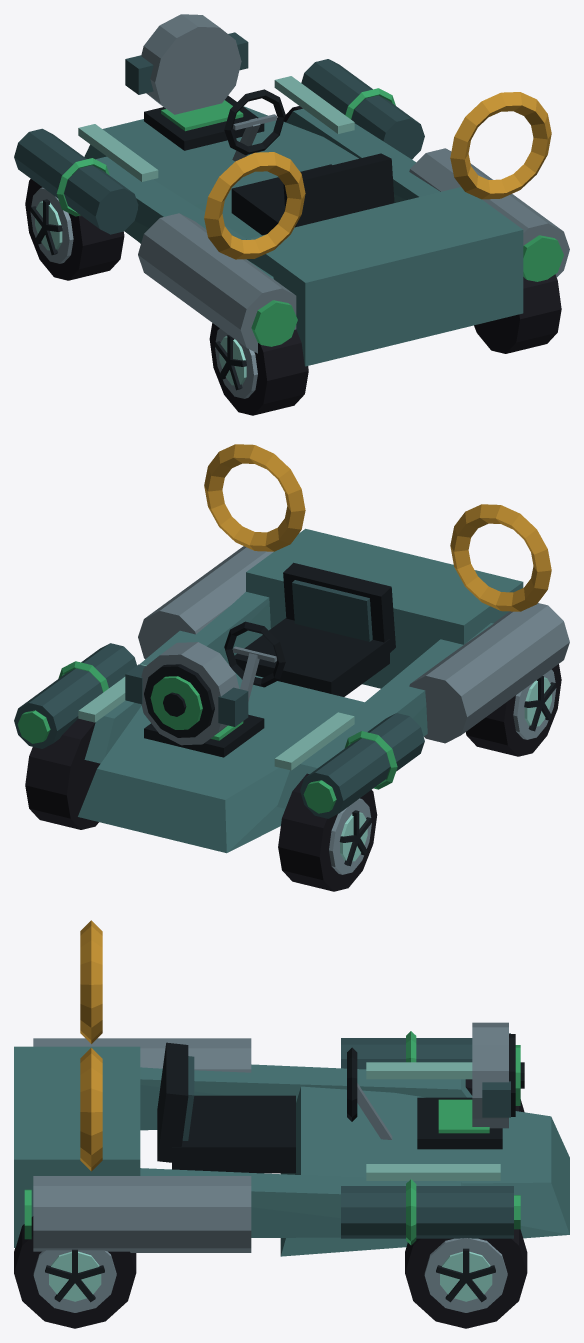
The model's file is kart.glb.
3 views of the same model, one above another, from view 1: azimuth 30°, elevation 25°; view 2: azimuth 150°, elevation 25°; view 3: azimuth 270°, elevation 25° (orthographic). The views are drawn at different scales.
Visible parts, largest first — view 1: identity-lab-pod-lab-pod-segmented-shell, identity-lab-pod-motif-plasma, identity-lab-pod-motif-ring, identity-lab-pod-driver-cockpit, identity-lab-pod-motif-optic, wheel-rear-left, wheel-front-left, wheel-rear-right; view 2: identity-lab-pod-lab-pod-segmented-shell, identity-lab-pod-driver-cockpit, identity-lab-pod-motif-plasma, identity-lab-pod-motif-ring, identity-lab-pod-motif-optic, wheel-front-left, wheel-front-right, wheel-rear-left; view 3: identity-lab-pod-lab-pod-segmented-shell, identity-lab-pod-driver-cockpit, identity-lab-pod-motif-plasma, wheel-front-right, wheel-rear-right, identity-lab-pod-motif-ring, identity-lab-pod-motif-optic.
Part boxes in pixels (left/top/right/bottom): identity-lab-pod-lab-pod-segmented-shell: left=78, top=76, right=569, bottom=366; identity-lab-pod-motif-plasma: left=14, top=59, right=424, bottom=234; identity-lab-pod-motif-ring: left=204, top=92, right=551, bottom=259; identity-lab-pod-driver-cockpit: left=224, top=89, right=394, bottom=235; identity-lab-pod-motif-optic: left=125, top=14, right=248, bottom=114; wheel-rear-left: left=209, top=323, right=308, bottom=415; wheel-front-left: left=25, top=179, right=124, bottom=280; wheel-rear-right: left=474, top=274, right=561, bottom=353; identity-lab-pod-lab-pod-segmented-shell: left=78, top=528, right=569, bottom=853; identity-lab-pod-driver-cockpit: left=224, top=562, right=395, bottom=701; identity-lab-pod-motif-plasma: left=14, top=643, right=424, bottom=818; identity-lab-pod-motif-ring: left=204, top=444, right=551, bottom=611; identity-lab-pod-motif-optic: left=125, top=642, right=248, bottom=745; wheel-front-left: left=278, top=773, right=377, bottom=891; wheel-front-right: left=25, top=718, right=100, bottom=829; wheel-rear-left: left=466, top=664, right=561, bottom=756; identity-lab-pod-lab-pod-segmented-shell: left=14, top=1038, right=569, bottom=1256; identity-lab-pod-driver-cockpit: left=157, top=1042, right=392, bottom=1173; identity-lab-pod-motif-plasma: left=341, top=1031, right=520, bottom=1245; wheel-front-right: left=405, top=1229, right=527, bottom=1328; wheel-rear-right: left=14, top=1216, right=136, bottom=1328; identity-lab-pod-motif-ring: left=80, top=920, right=102, bottom=1171; identity-lab-pod-motif-optic: left=472, top=1022, right=524, bottom=1128.
Size of the model in its own units: 2.09 by 1.42 by 2.73.
